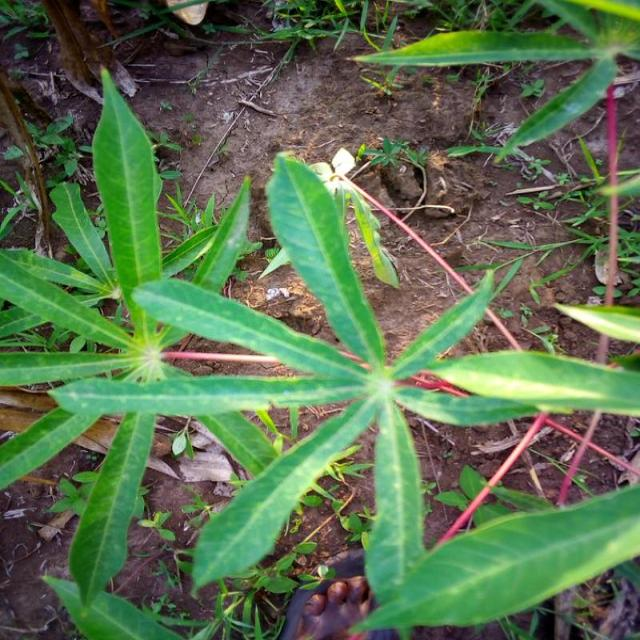cassava leaf: (1, 65, 638, 636), (346, 481, 638, 636), (263, 149, 387, 369), (90, 65, 164, 336)
